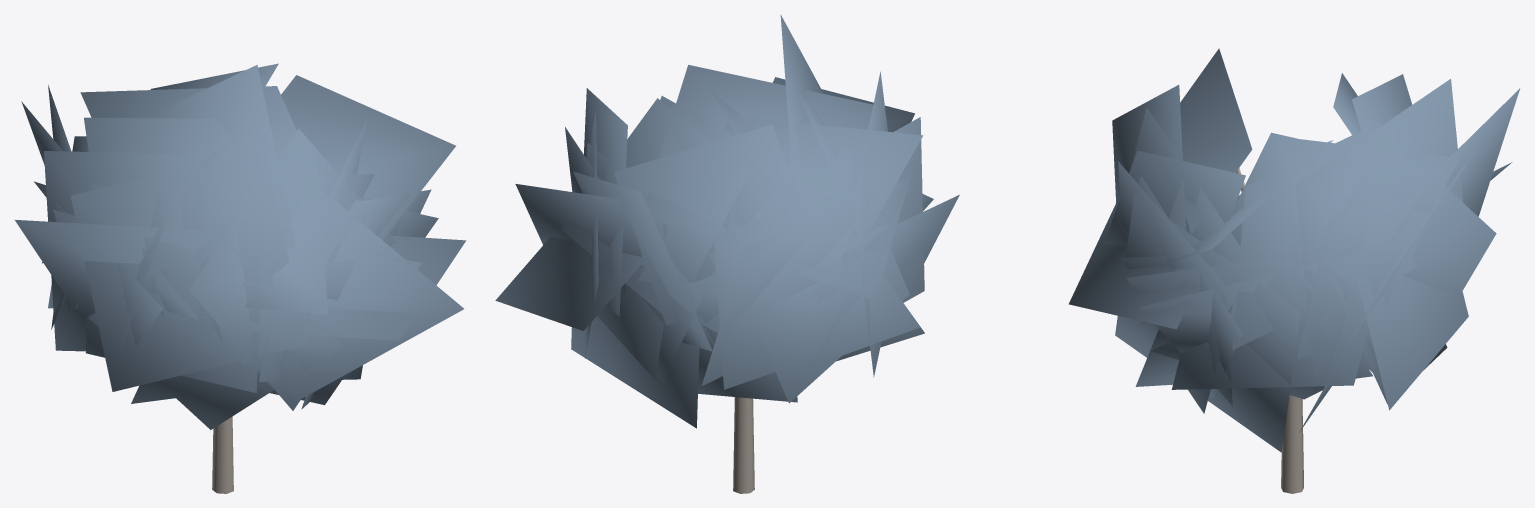
Rendered from oak1.glb.
The picture shows the model from 3 angles, left to right: view 1: azimuth 30°, elevation 25°; view 2: azimuth 150°, elevation 25°; view 3: azimuth 270°, elevation 25°; orthographic projection. The views are drawn at different scales.
Visible parts, largest first — view 1: leaves, bark; view 2: leaves, bark; view 3: leaves, bark.
Part boxes in pixels (x1,y1,x2,y2): leaves: (15, 63, 466, 429); bark: (212, 416, 233, 493); leaves: (495, 14, 959, 428); bark: (733, 397, 754, 493); leaves: (1069, 48, 1520, 452); bark: (1236, 168, 1303, 493).
Size of the model in its own units: 24.7 by 25.64 by 25.43.
